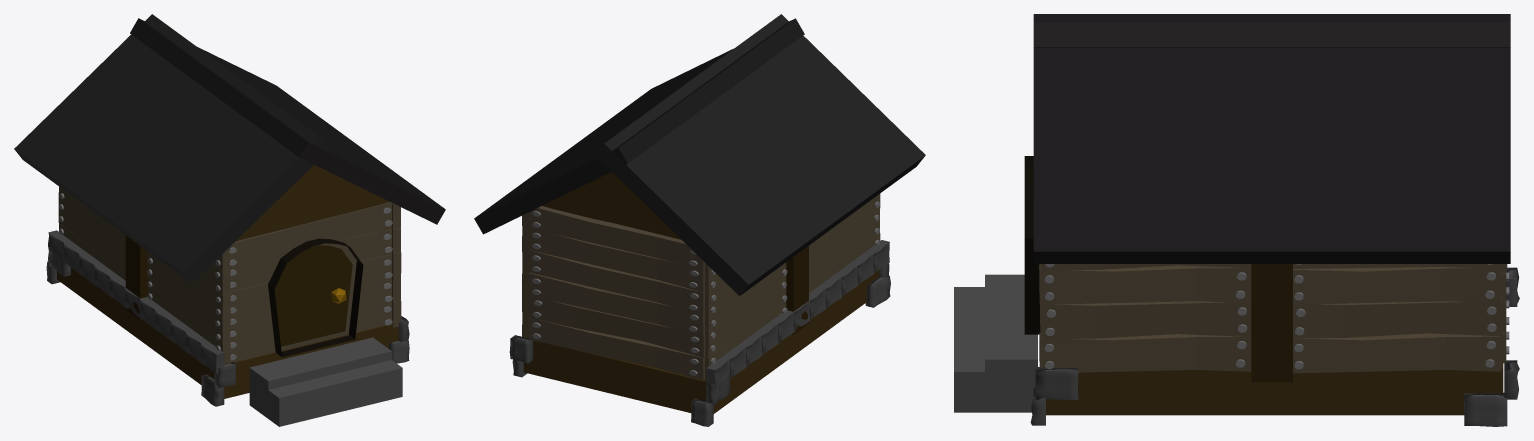
File: House.fbx
The picture shows the model from 3 angles, left to right: view 1: azimuth 30°, elevation 25°; view 2: azimuth 150°, elevation 25°; view 3: azimuth 270°, elevation 25°; orthographic projection. The views are drawn at different scales.
Parts seen in each view (by area): view 1: Cube, Cube.007; view 2: Cube, Cube.007; view 3: Cube.
Boxes of the visible parts, bbox=[...] form: Cube: bbox=[14, 14, 445, 426]; Cube.007: bbox=[48, 230, 224, 374]; Cube: bbox=[474, 14, 925, 426]; Cube.007: bbox=[706, 240, 889, 389]; Cube: bbox=[954, 14, 1519, 426].
Bounding box in the file's own units: 425 × 389 × 563.
